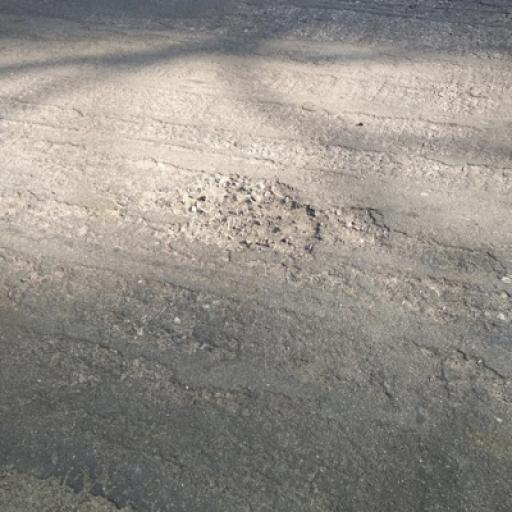pothole: (180, 177, 324, 252), (324, 204, 386, 248)
